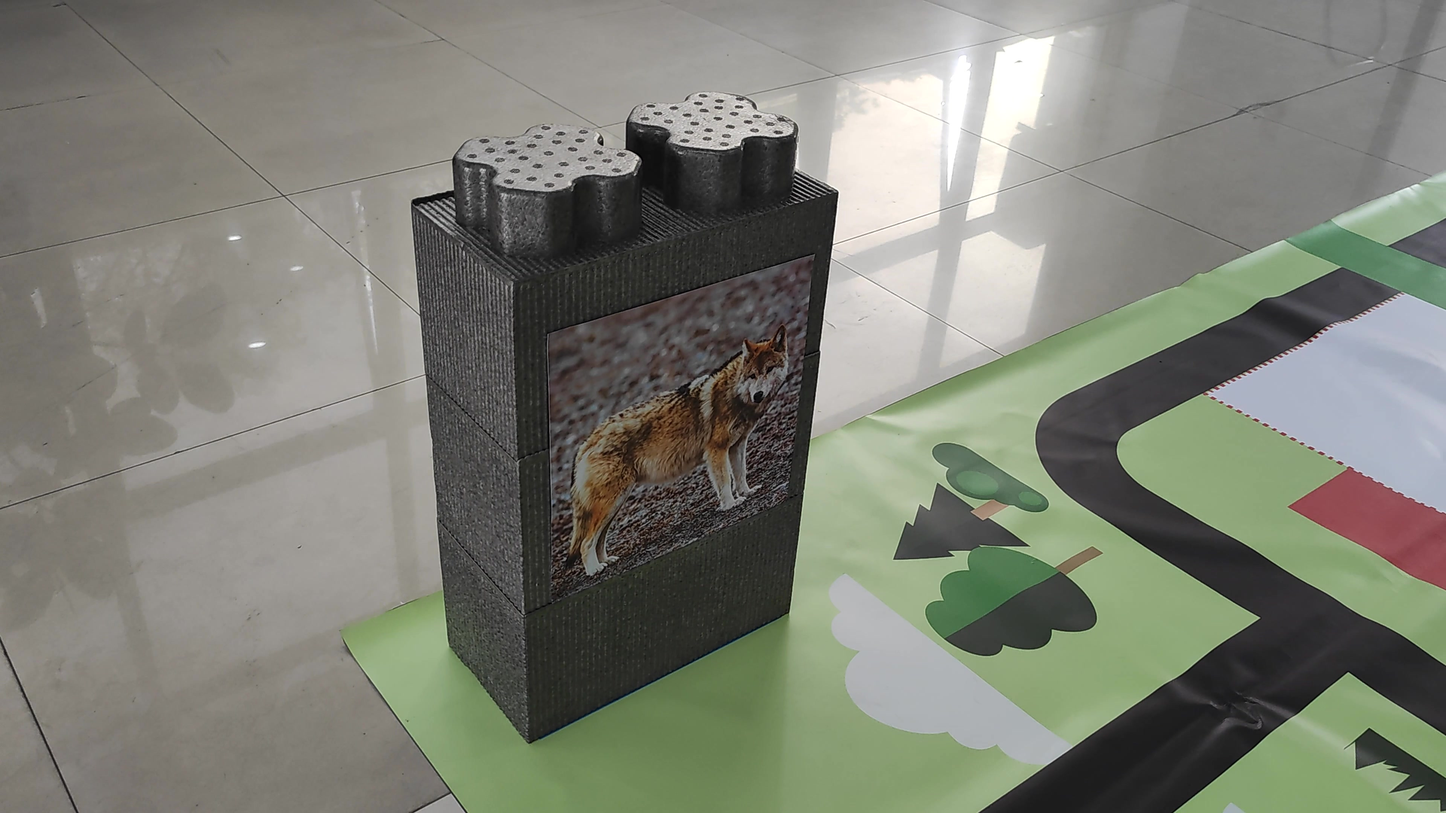wolf: (549, 326, 799, 565)
